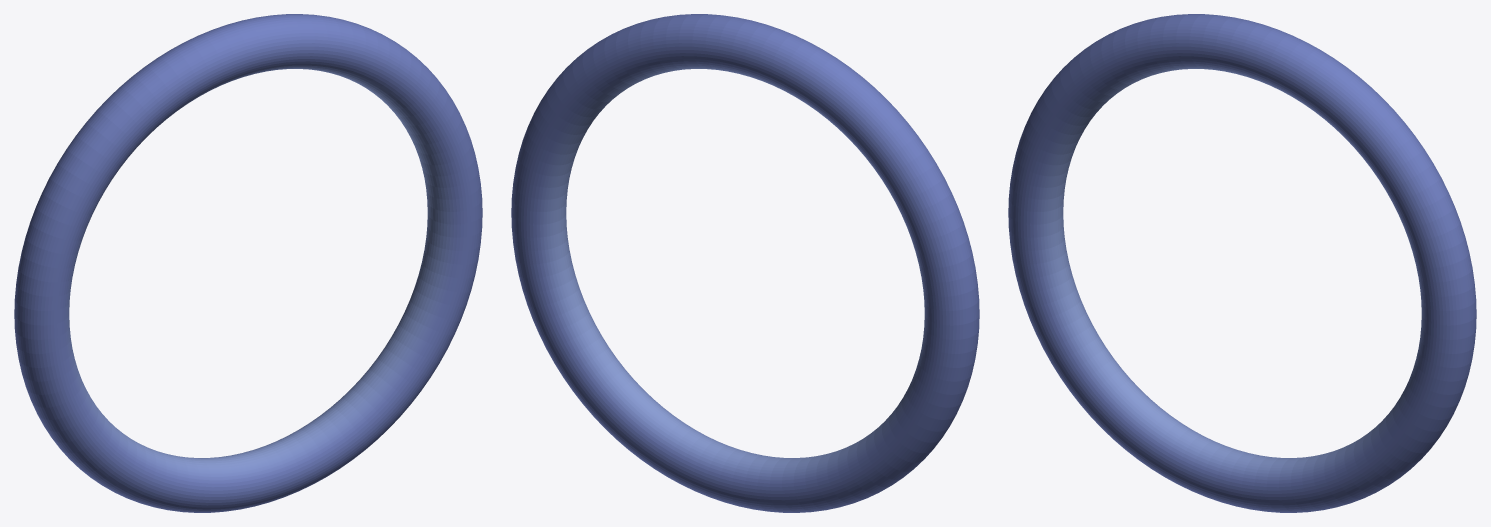
3 views of the same model, side by side, from view 1: azimuth 30°, elevation 25°; view 2: azimuth 150°, elevation 25°; view 3: azimuth 330°, elevation 25° (orthographic).
Visible parts, largest first — view 1: world; view 2: world; view 3: world.
Boxes of the visible parts, x1,y1,x2,y2 form: world: [14, 14, 482, 512]; world: [511, 14, 979, 512]; world: [1008, 14, 1476, 512].
Bounding box in the file's own units: 24.53 × 24.53 × 2.53.
